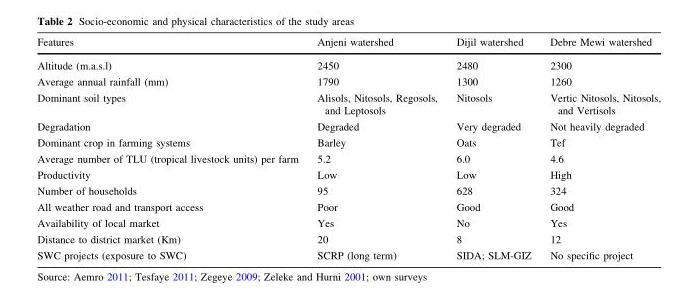table: (36, 36, 660, 260)
table column: (36, 36, 307, 260), (307, 36, 446, 260), (539, 36, 660, 260), (446, 36, 539, 260)
table column header: (36, 36, 660, 53)
table row: (36, 89, 660, 118), (36, 53, 660, 73), (36, 36, 660, 53), (36, 166, 660, 183), (36, 73, 660, 89), (36, 118, 660, 134), (36, 134, 660, 150), (36, 150, 660, 166), (36, 183, 660, 199), (36, 199, 660, 215), (36, 215, 660, 231), (36, 231, 660, 247), (36, 247, 660, 260)
